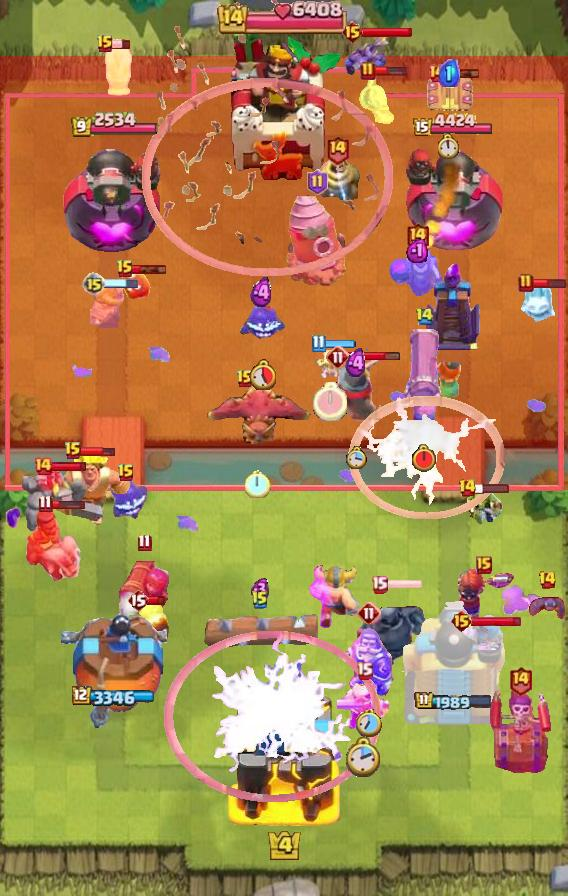bar: (471, 615, 522, 628), (361, 26, 413, 38), (348, 351, 401, 362), (80, 445, 116, 458), (386, 578, 423, 590), (474, 482, 510, 494), (103, 278, 139, 290), (51, 498, 86, 510), (532, 277, 567, 289), (51, 461, 88, 472), (374, 65, 407, 77), (132, 264, 167, 275), (445, 68, 480, 79), (323, 339, 357, 349), (147, 595, 166, 606), (112, 39, 131, 50)
bar-level: (508, 665, 533, 696), (405, 221, 430, 252), (325, 134, 350, 165), (357, 601, 381, 625), (326, 345, 350, 369), (82, 272, 106, 296), (450, 609, 473, 633), (341, 20, 364, 44), (307, 169, 328, 195), (127, 588, 149, 612), (33, 456, 53, 476), (427, 63, 447, 83), (538, 570, 557, 590), (458, 478, 477, 498), (415, 307, 434, 326), (251, 590, 269, 610), (117, 463, 135, 483), (64, 441, 82, 461), (236, 369, 254, 389), (116, 259, 134, 279), (96, 34, 114, 54), (356, 661, 373, 680), (371, 575, 388, 594), (518, 273, 534, 293), (360, 61, 376, 81), (476, 556, 492, 574), (137, 533, 152, 552), (38, 494, 53, 513), (311, 334, 326, 353)
barbarian-evolution: (337, 678, 391, 732)
bat: (527, 594, 567, 622)
bat-evolution: (454, 620, 504, 650)
cannoneer-tower: (397, 595, 509, 731), (62, 138, 166, 256), (403, 138, 504, 256)
clock: (346, 736, 382, 779), (313, 382, 347, 421), (249, 359, 276, 390), (245, 469, 271, 498), (411, 444, 437, 473), (356, 709, 382, 737), (438, 133, 460, 159), (346, 446, 367, 469)
electro-spirit: (104, 475, 148, 523), (238, 304, 286, 344)
elite-barbarian: (309, 563, 360, 629), (90, 282, 126, 329)
elixir: (250, 277, 274, 309), (345, 348, 368, 379), (439, 59, 460, 87), (406, 237, 428, 263), (251, 577, 270, 602)
fire-spirit: (136, 596, 172, 646), (120, 268, 152, 302)
firecracker-evolution: (115, 547, 173, 627)
goblin: (463, 485, 503, 525)
golemite: (21, 470, 87, 532)
ice-spirit: (357, 74, 399, 126), (518, 285, 562, 325)
king-tower: (224, 23, 344, 181), (227, 688, 342, 826)
king-tower-bar: (217, 0, 351, 34)
knight: (325, 360, 387, 426)
knight-evolution: (345, 628, 394, 696)
minion: (344, 31, 390, 77)
mother-witch: (388, 245, 446, 301)
queen-tower: (61, 603, 167, 731)
ram-rider: (25, 507, 85, 583)
royal-hog: (102, 40, 134, 100)
skeleton: (314, 349, 346, 381)
tesla: (424, 74, 474, 114)
the-log: (195, 609, 325, 651)
tower-bar: (70, 111, 159, 139), (412, 112, 494, 139), (72, 686, 157, 708), (414, 691, 493, 712)
valkyrie: (428, 356, 466, 408)
valkyrie-evolution: (453, 564, 515, 626)
zappy: (314, 155, 360, 203)
